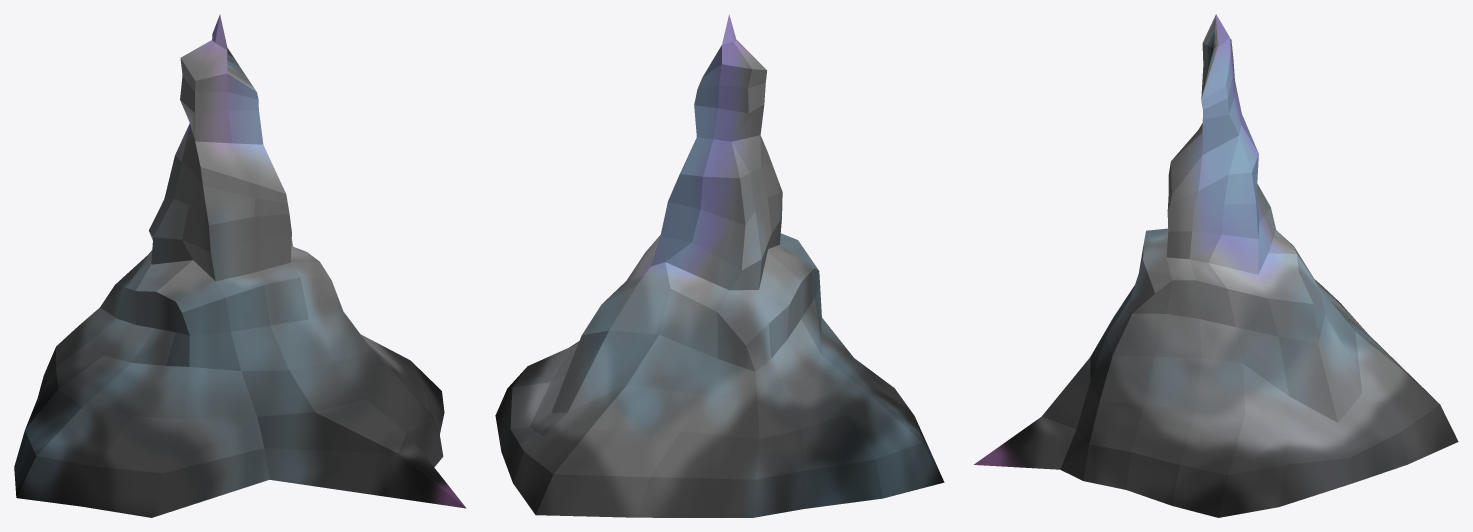
File: Mountain8.fbx
3 views of the same model, side by side, from view 1: azimuth 30°, elevation 25°; view 2: azimuth 150°, elevation 25°; view 3: azimuth 270°, elevation 25° (orthographic). The views are drawn at different scales.
Visible parts, largest first — view 1: Mountain8; view 2: Mountain8; view 3: Mountain8.
Part boxes in pixels (x1,y1,x2,y2): Mountain8: [14, 14, 466, 517]; Mountain8: [495, 14, 944, 517]; Mountain8: [974, 14, 1458, 517].
Size of the model in its own units: 4613 by 4396 by 4798.
